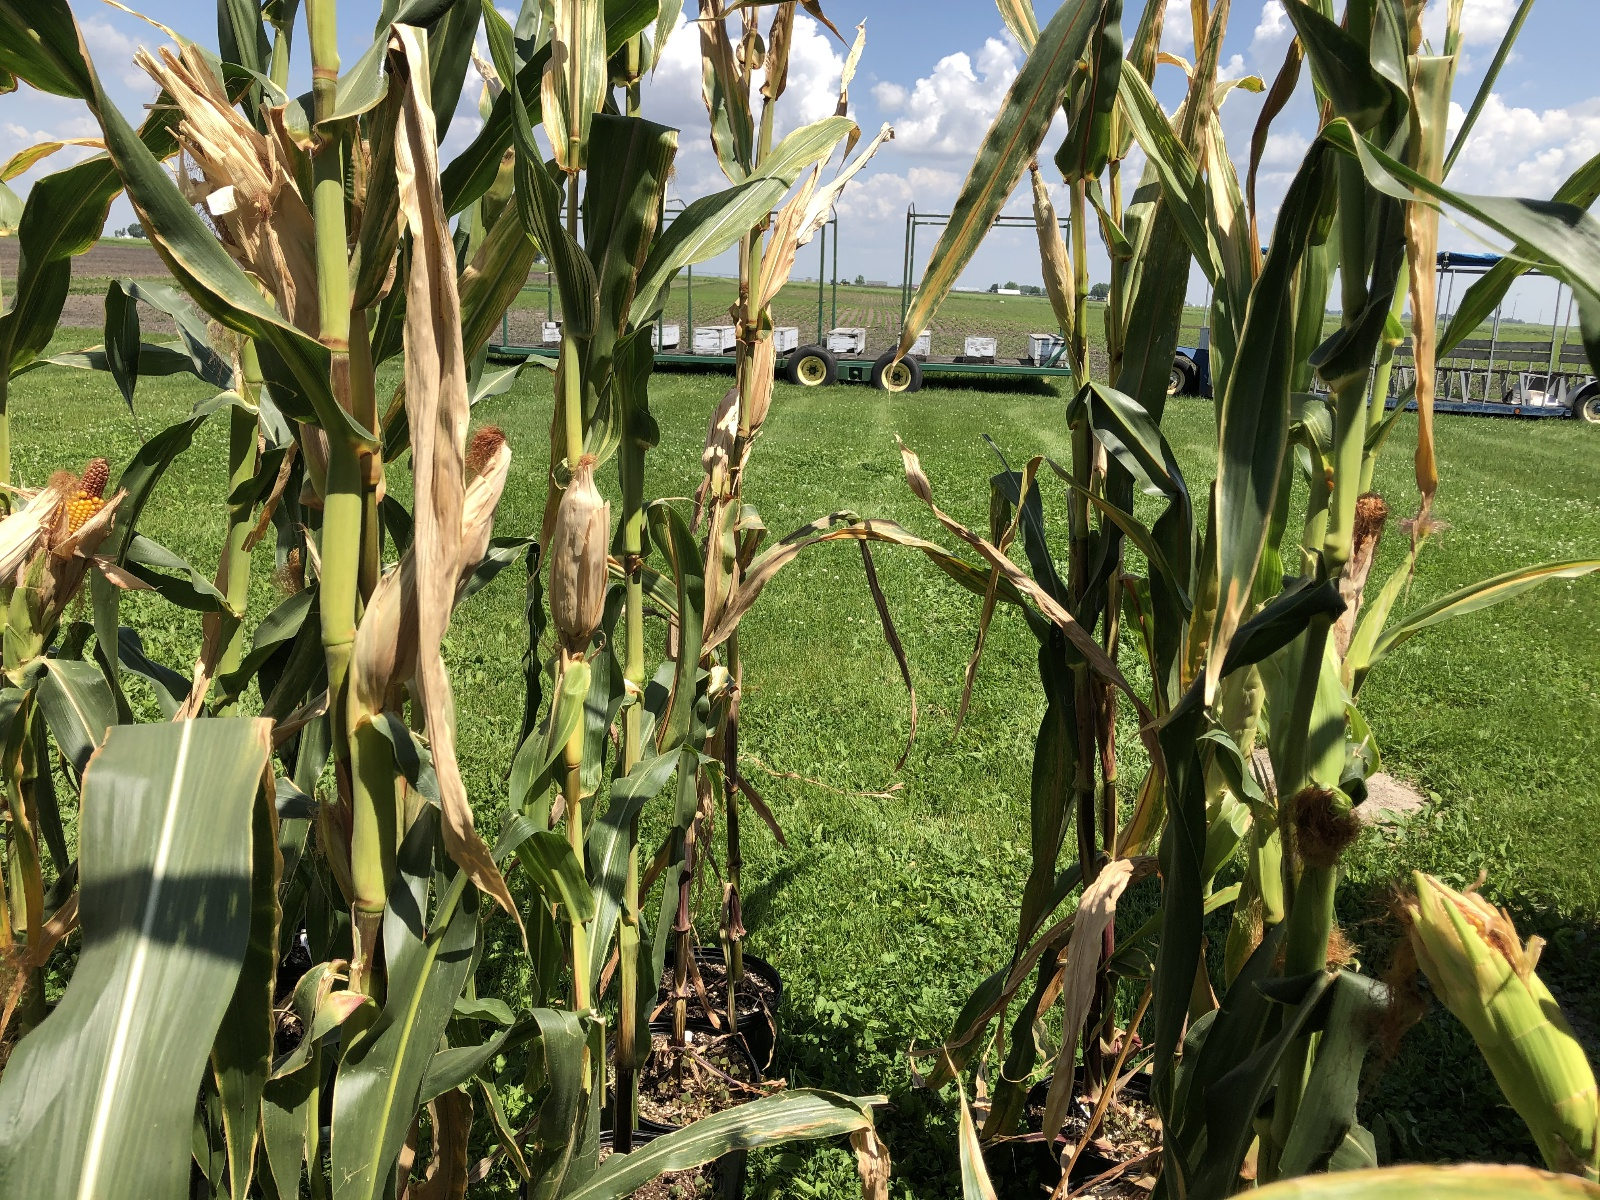ear: (1373, 862, 1595, 1165), (345, 421, 517, 692), (5, 446, 117, 666), (540, 449, 622, 640), (1020, 154, 1087, 338)
